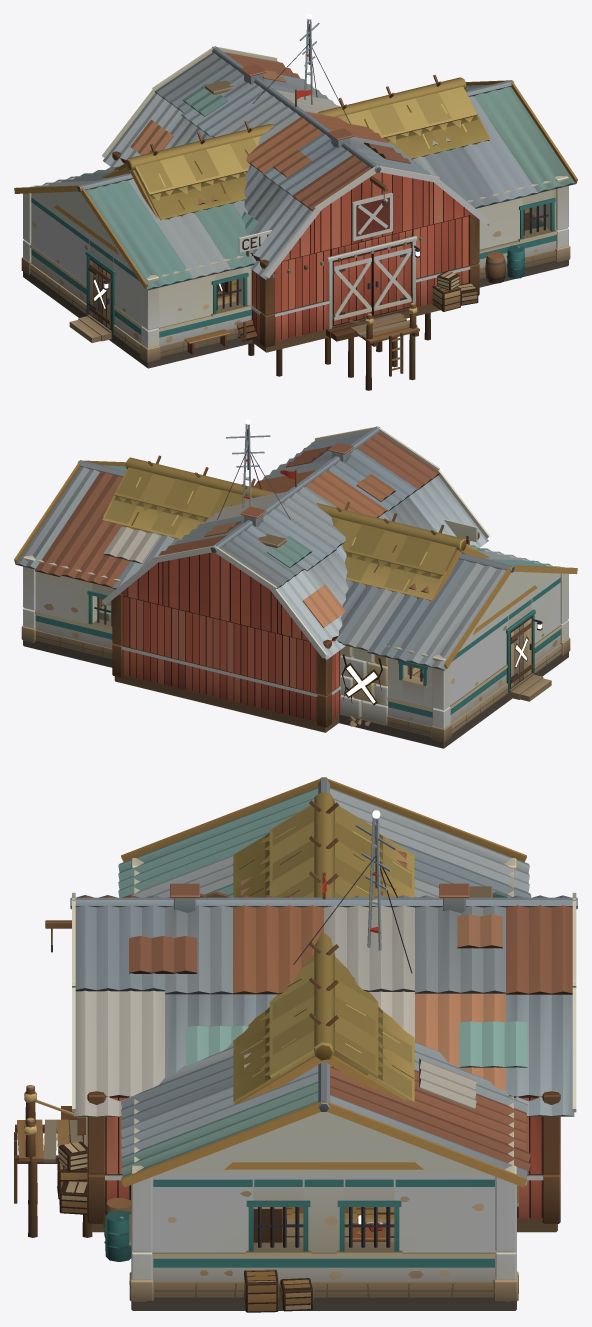
Rendered from prefab.glb.
The picture shows the model from 3 angles, top to bottom: view 1: azimuth 30°, elevation 25°; view 2: azimuth 150°, elevation 25°; view 3: azimuth 270°, elevation 25°; orthographic projection. The views are drawn at different scales.
Visible parts, largest first — view 1: barn__roof, cellblock__roof, farmhouse__roof, cellblock__matte, cellblock__upper_s, barn__upper_s, barn__matte, cellblock__upper_w, boathouse__matte, barn__door1, barn__door0, cellblock__door1 (+3 smaller); view 2: barn__roof, cellblock__roof, farmhouse__roof, cellblock__matte, barn__upper_n, barn__matte, cellblock__upper_n, cellblock__upper_w, cellblock__door1, radio_shack__roof, cellblock__upper_e, barn__upper_e (+3 smaller); view 3: barn__roof, cellblock__roof, farmhouse__roof, cellblock__matte, cellblock__upper_e, barn__matte, boathouse__matte, barn__upper_e, cellblock__upper_s, radio_shack__roof, farmhouse__matte, barn__upper_s.
Boxes of the visible parts, x1,y1,x2,y2 form: barn__roof: [102, 46, 489, 279]; cellblock__roof: [14, 80, 577, 290]; farmhouse__roof: [102, 74, 489, 278]; cellblock__matte: [21, 207, 570, 368]; cellblock__upper_s: [141, 175, 568, 330]; barn__upper_s: [260, 213, 479, 315]; barn__matte: [236, 236, 479, 352]; cellblock__upper_w: [31, 194, 141, 325]; boathouse__matte: [248, 302, 430, 390]; barn__door1: [372, 242, 412, 316]; barn__door0: [332, 252, 371, 326]; cellblock__door1: [88, 258, 111, 330]; barn__roof: [102, 426, 489, 660]; cellblock__roof: [14, 460, 577, 670]; farmhouse__roof: [102, 455, 489, 601]; cellblock__matte: [21, 605, 570, 748]; barn__upper_n: [122, 595, 331, 695]; barn__matte: [112, 644, 353, 732]; cellblock__upper_n: [35, 560, 450, 710]; cellblock__upper_w: [450, 574, 560, 704]; cellblock__door1: [510, 616, 532, 688]; radio_shack__roof: [217, 424, 290, 519]; cellblock__upper_e: [23, 555, 35, 610]; barn__upper_e: [112, 593, 122, 645]; barn__roof: [45, 883, 577, 1116]; cellblock__roof: [118, 777, 531, 1187]; farmhouse__roof: [232, 792, 415, 1104]; cellblock__matte: [103, 1185, 518, 1312]; cellblock__upper_e: [152, 1165, 516, 1252]; barn__matte: [57, 1118, 560, 1232]; boathouse__matte: [14, 1085, 92, 1237]; barn__upper_e: [105, 1091, 560, 1174]; cellblock__upper_s: [131, 858, 152, 1251]; radio_shack__roof: [293, 817, 412, 973]; farmhouse__matte: [61, 886, 492, 1241]; barn__upper_s: [87, 1091, 105, 1174].
Bounding box in the file's own units: 17.95 × 10.48 × 12.39.
